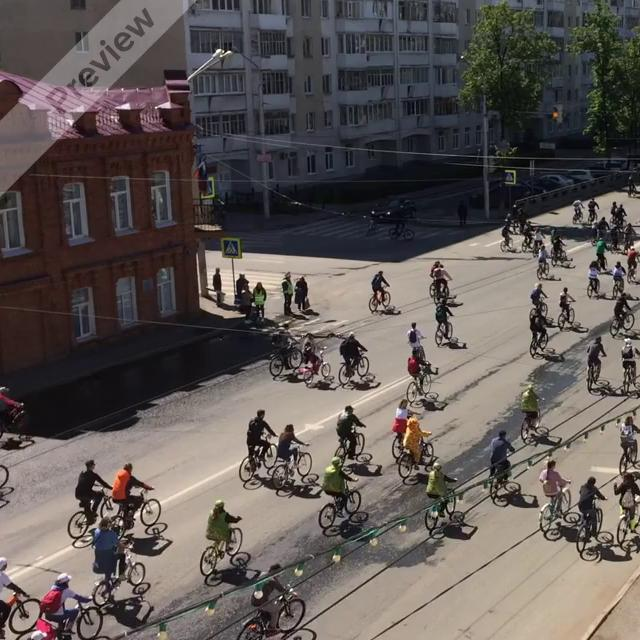bicycle: (236, 583, 307, 639), (199, 526, 251, 586), (91, 551, 146, 606), (100, 486, 161, 528), (67, 485, 115, 538), (538, 480, 579, 541), (575, 497, 613, 561), (268, 443, 313, 488), (318, 486, 362, 529), (424, 486, 465, 532), (239, 434, 276, 482), (396, 433, 435, 478), (482, 466, 521, 507), (268, 335, 304, 377), (616, 497, 639, 553), (405, 371, 439, 407), (333, 425, 366, 461), (301, 346, 331, 385), (338, 350, 369, 386), (520, 408, 549, 443), (586, 360, 611, 395), (618, 437, 639, 475), (610, 308, 634, 338), (621, 360, 639, 396), (531, 302, 555, 327), (529, 329, 549, 358), (368, 288, 390, 313), (434, 320, 453, 347), (428, 277, 450, 300), (557, 302, 575, 330)
